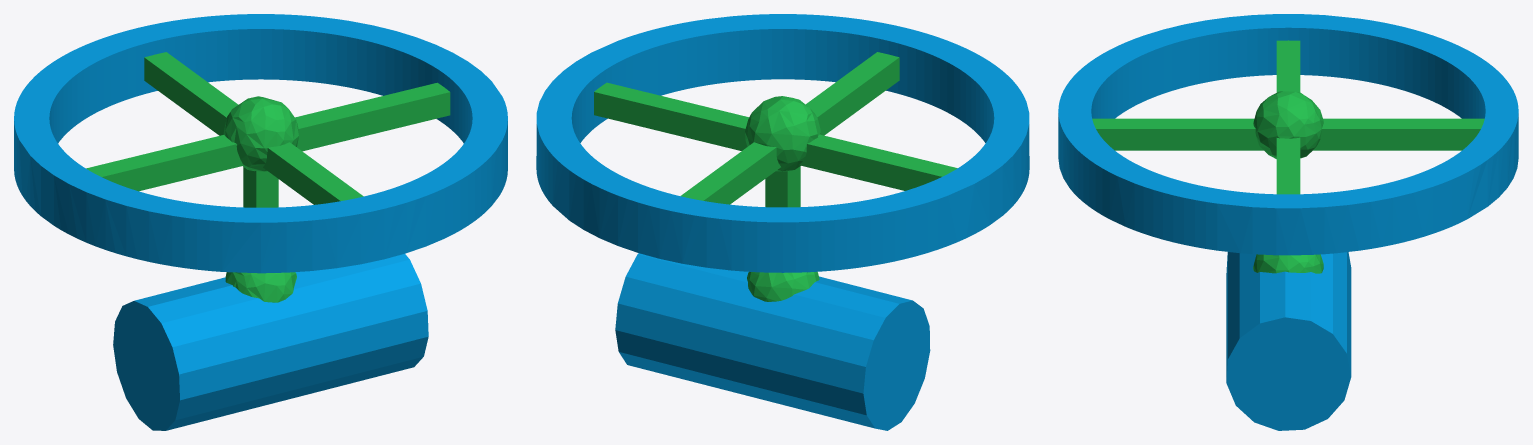
The model's file is fan01.glb.
The picture shows the model from 3 angles, left to right: view 1: azimuth 30°, elevation 25°; view 2: azimuth 150°, elevation 25°; view 3: azimuth 270°, elevation 25°; orthographic projection. The views are drawn at different scales.
Bounding box in the file's own units: 0.04 × 0.0267 × 0.04.
